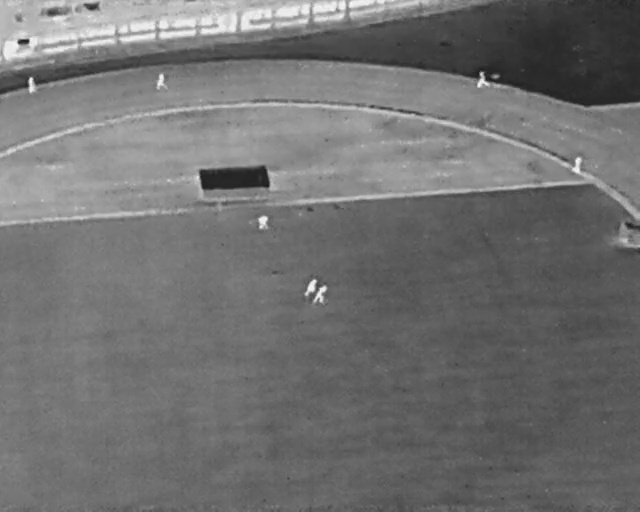Person: (312, 281, 331, 307), (302, 277, 319, 299), (477, 71, 489, 89), (156, 73, 167, 90), (572, 157, 582, 174), (258, 215, 269, 230), (28, 77, 37, 94)
